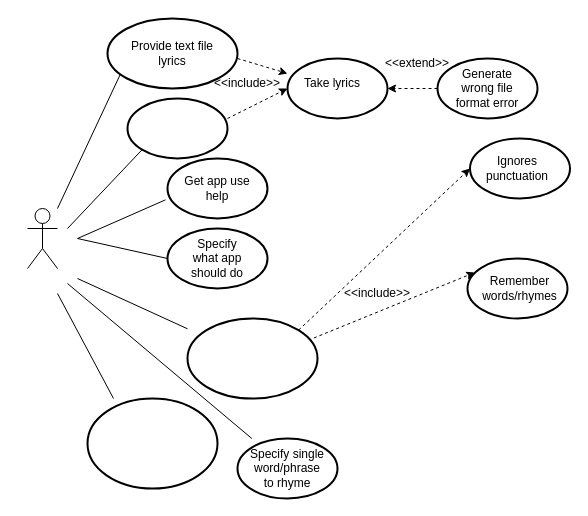
The diagram is 588 pixels wide and 516 high, and some of its shapes have lost their labels. The shapes that lost their labels are listed below. From the top down, each one's box as (x1, y1, x2, y2) in pixels, then its label:
(126, 97, 228, 159): Type lyrics into app
(26, 208, 58, 268): App User
(186, 317, 318, 399): Get color coded rhyme scheme
(86, 397, 218, 489): Go through installation/setup process
